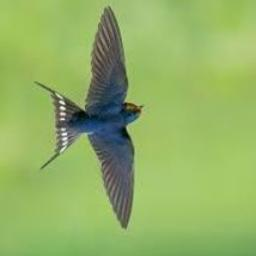Swallow: (33, 5, 145, 229)
